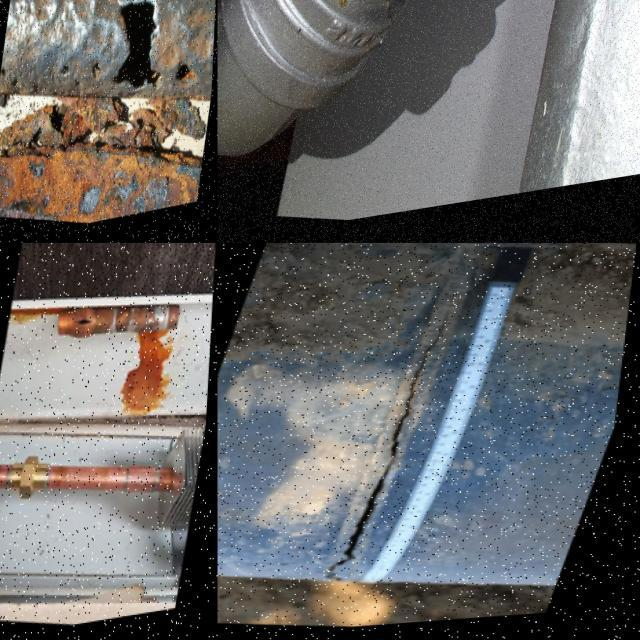crack: (329, 308, 466, 587)
hole: (113, 1, 176, 108), (172, 57, 205, 102), (60, 59, 75, 85), (92, 61, 107, 87), (11, 73, 28, 95), (73, 75, 88, 97), (2, 63, 12, 82), (109, 1, 125, 12)
rupture: (68, 313, 100, 338)
